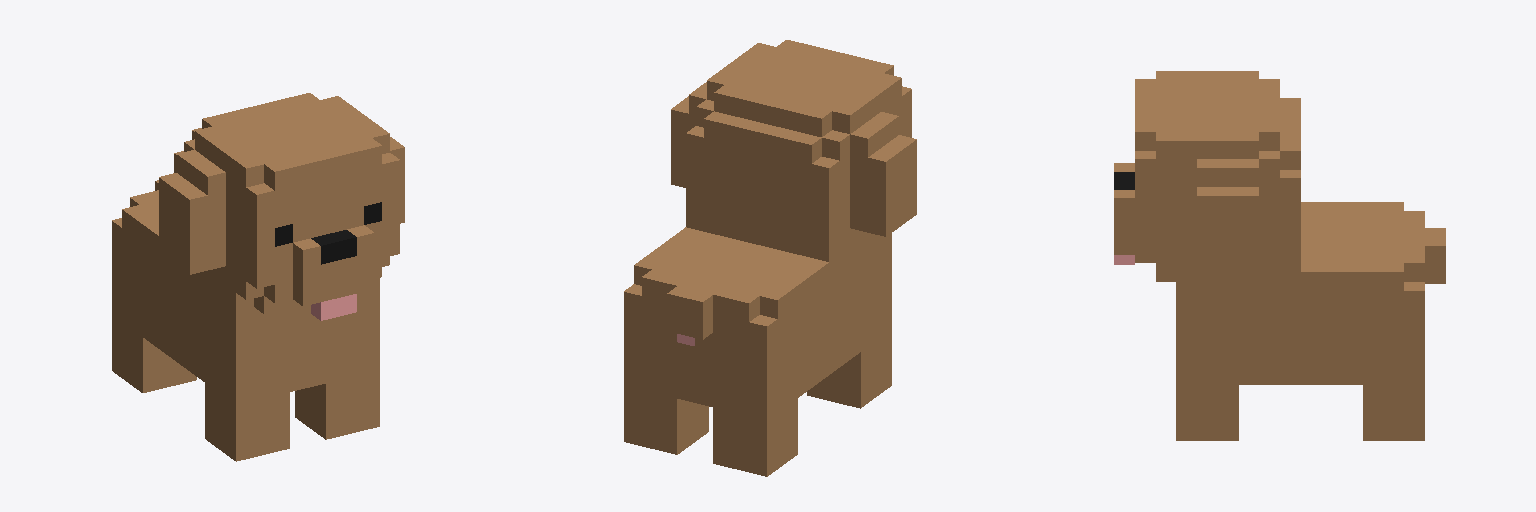
3 views of the same model, side by side, from view 1: azimuth 30°, elevation 25°; view 2: azimuth 150°, elevation 25°; view 3: azimuth 270°, elevation 25° (orthographic).
Parts seen in each view (by area): view 1: object 1; view 2: object 1; view 3: object 1.
Boxes of the visible parts, box(x1,y1,x2,y2) form: object 1: box(112, 93, 404, 461); object 1: box(624, 40, 916, 476); object 1: box(1114, 71, 1445, 440).
Bounding box in the file's own units: 1.2 × 1.6 × 1.6.
Materials: 1 (1 with a texture image).